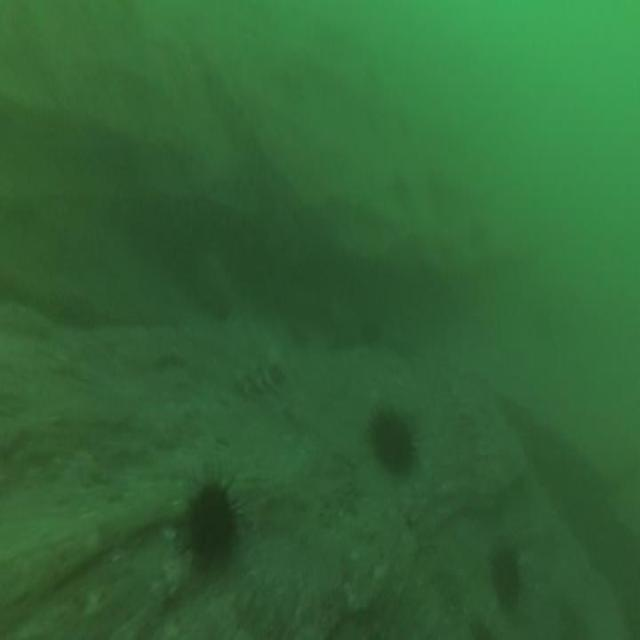echinus: (185, 474, 235, 577), (367, 397, 417, 482), (487, 539, 525, 616)
